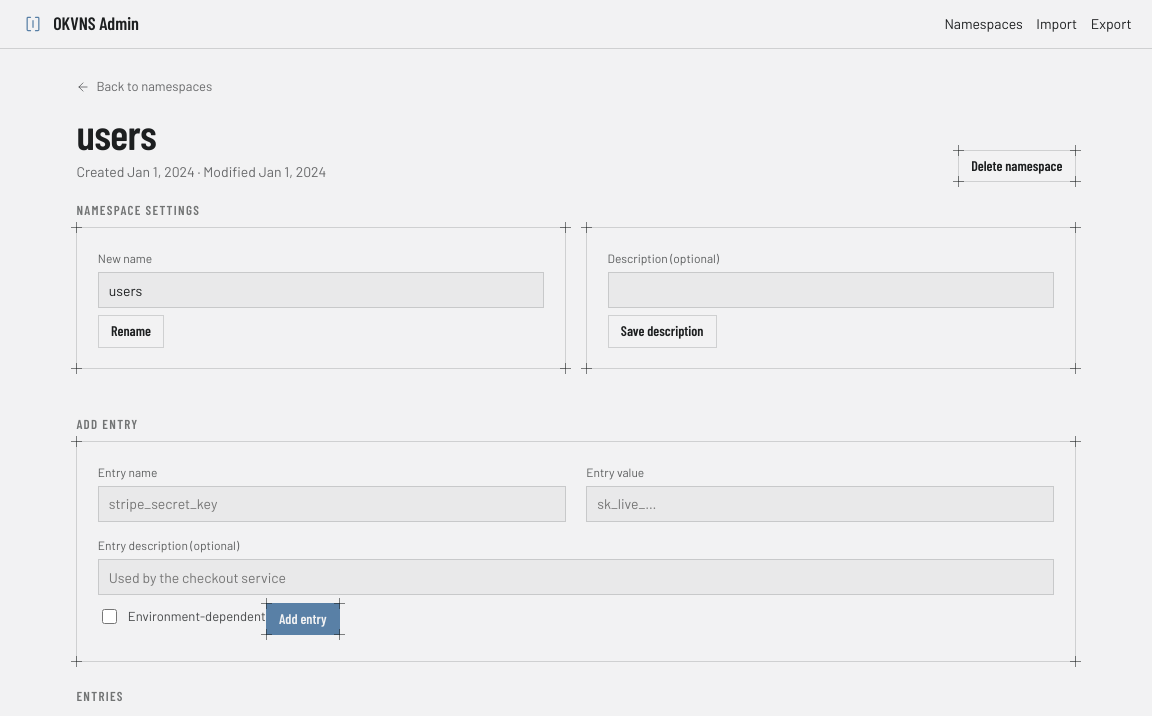
Test: NamespaceDetailPage › creates an entry without the marker as not environment-dependent
This screenshot has width=1152, height=716.
Expected: the heading "users" is shown, [76, 108, 156, 158]
Type "token" into the field labelled "Entry name" at (332, 504), box [98, 486, 566, 522]
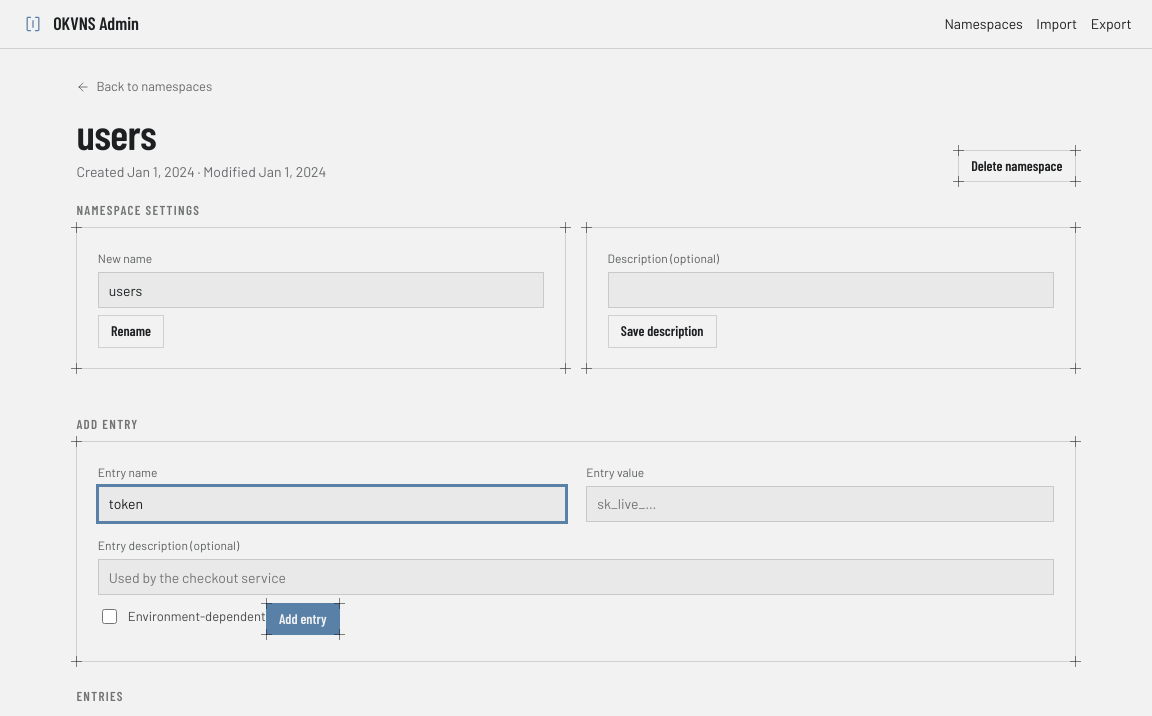
Type "abc" into the field labelled "Entry value" at (820, 504), box [586, 486, 1054, 522]
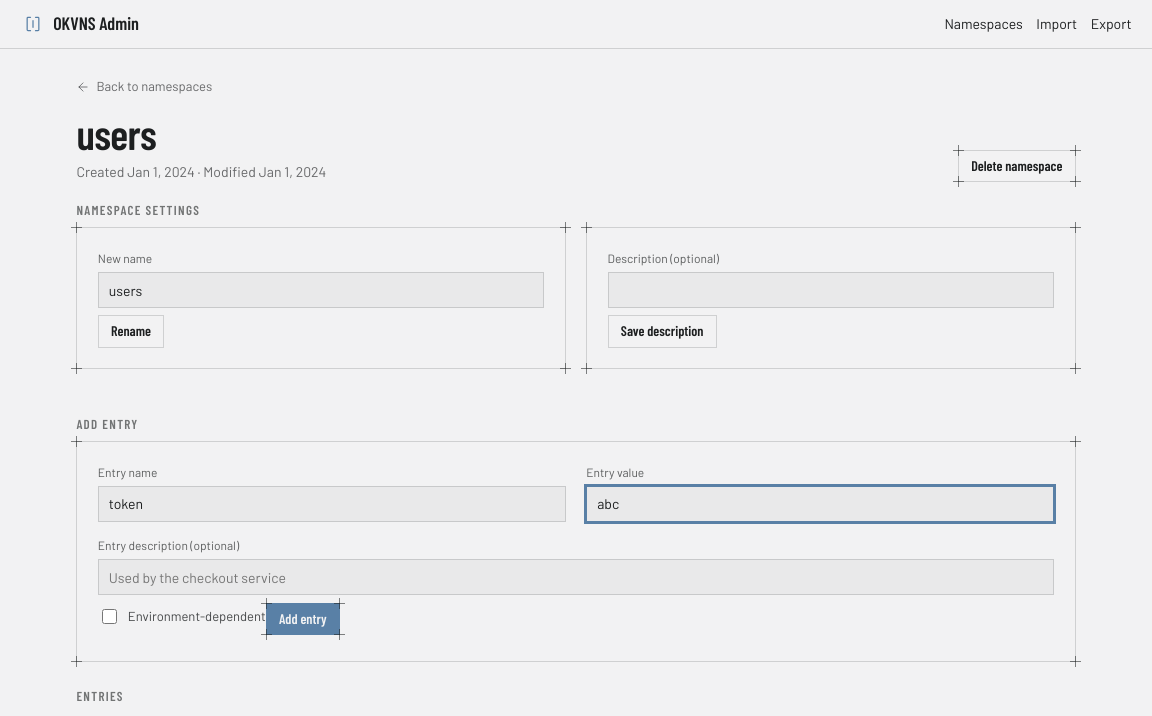
Click the button "Add entry" at (303, 619), box [266, 603, 340, 635]
(page scrolled)
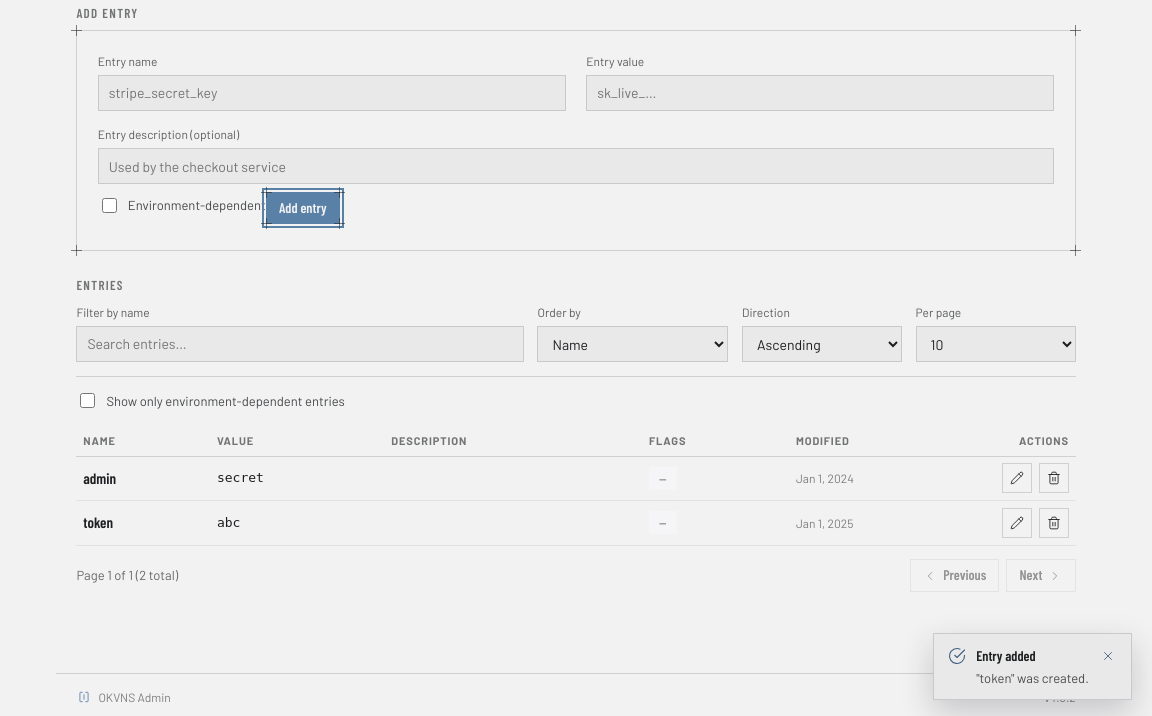
Click the button named "Edit entry token" at (1017, 523), box [1002, 508, 1032, 538]
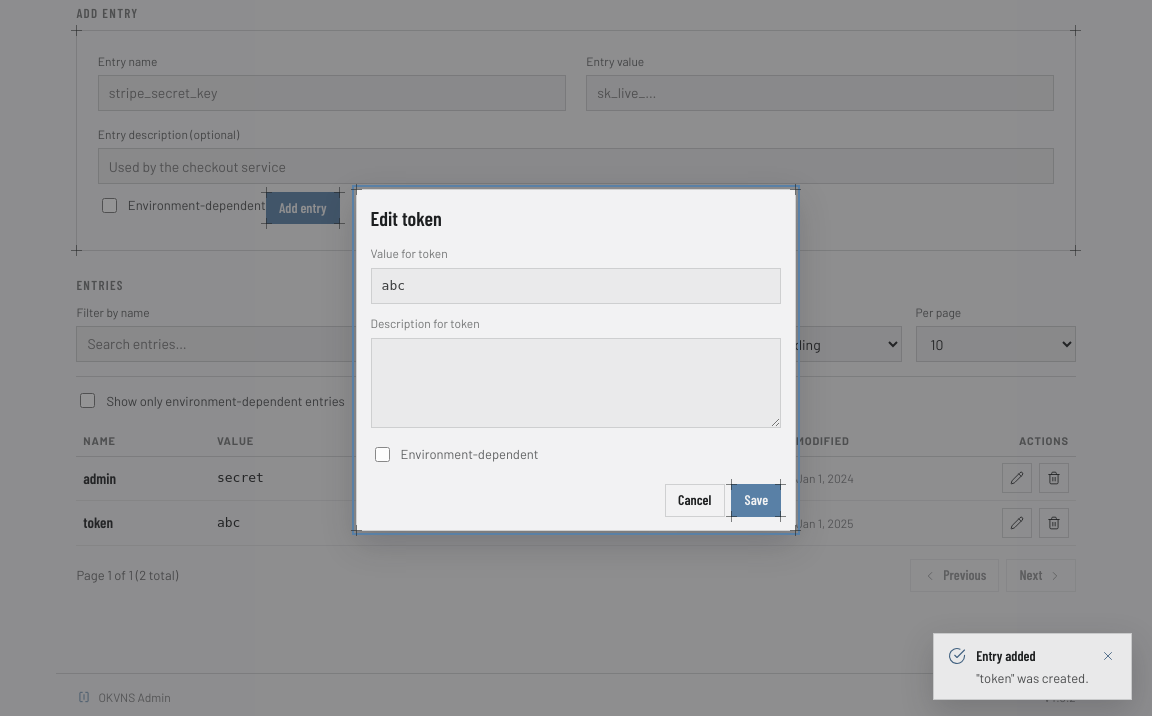
Result: the checkbox named "Environment-dependent for token" is not checked at [375, 447, 390, 462]
